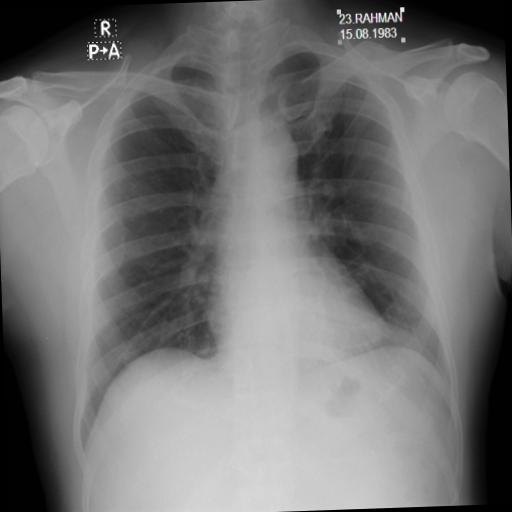normal: (54, 20, 462, 464)
